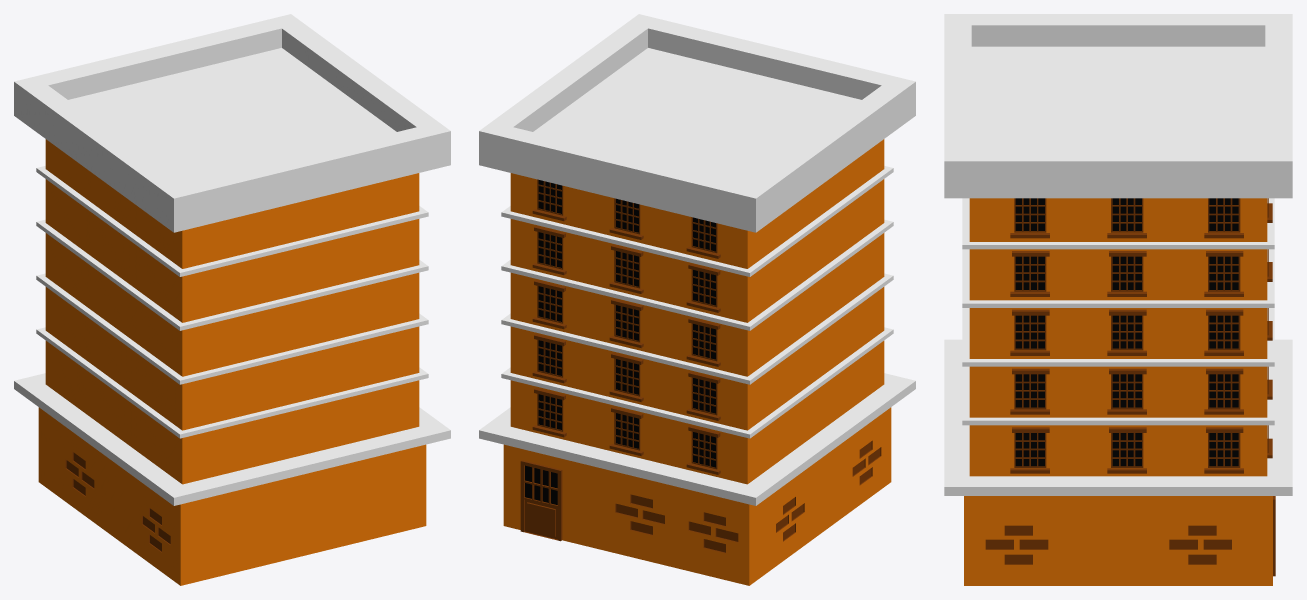
The model's file is houseterre.fbx.
The picture shows the model from 3 angles, left to right: view 1: azimuth 30°, elevation 25°; view 2: azimuth 150°, elevation 25°; view 3: azimuth 270°, elevation 25°; orthographic projection. The views are drawn at different scales.
Visible parts, largest first — view 1: houseterre; view 2: houseterre; view 3: houseterre.
Part boxes in pixels (x1,y1,x2,y2): houseterre: [14, 14, 450, 585]; houseterre: [479, 14, 915, 585]; houseterre: [944, 14, 1292, 585].
Size of the model in its own units: 2377 by 3262 by 2377.
